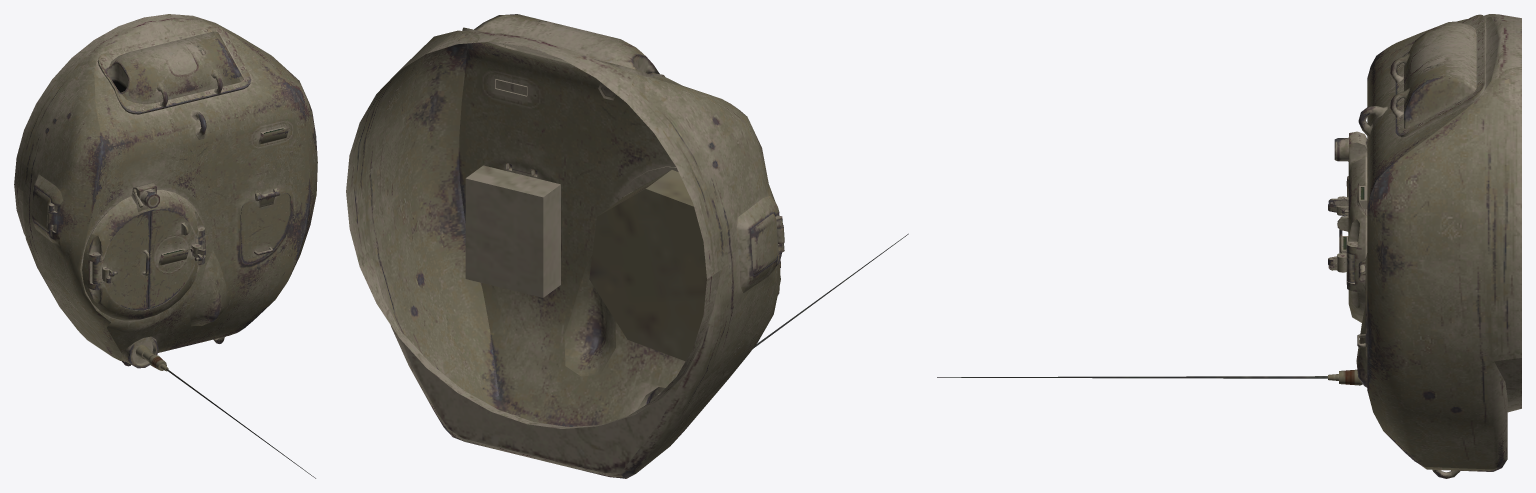
File: Turret_02.glb
The picture shows the model from 3 angles, left to right: view 1: azimuth 30°, elevation 25°; view 2: azimuth 150°, elevation 25°; view 3: azimuth 270°, elevation 25°; orthographic projection. The views are drawn at different scales.
Parts seen in each view (by area): view 1: set_0_group_0; view 2: set_0_group_0; view 3: set_0_group_0.
Boxes of the visible parts, box(x1,y1,x2,y2) form: set_0_group_0: box(14, 14, 317, 478); set_0_group_0: box(346, 14, 908, 478); set_0_group_0: box(937, 14, 1521, 478).
Size of the model in its own units: 2.07 by 2.31 by 2.96.
1 material, 1 textured.
